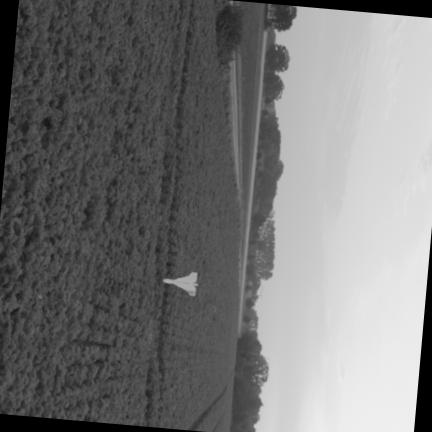Shahed: (163, 273, 197, 296)
